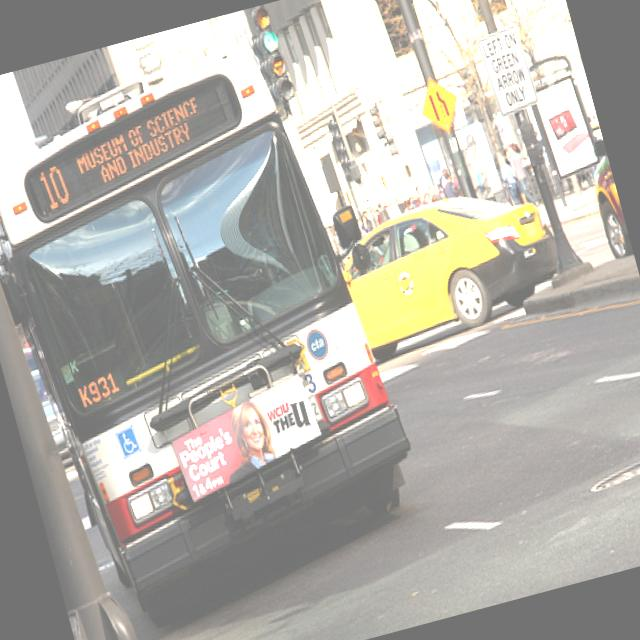Vehicle: (0, 30, 437, 620), (334, 173, 574, 359), (6, 370, 74, 486), (586, 154, 634, 260)
